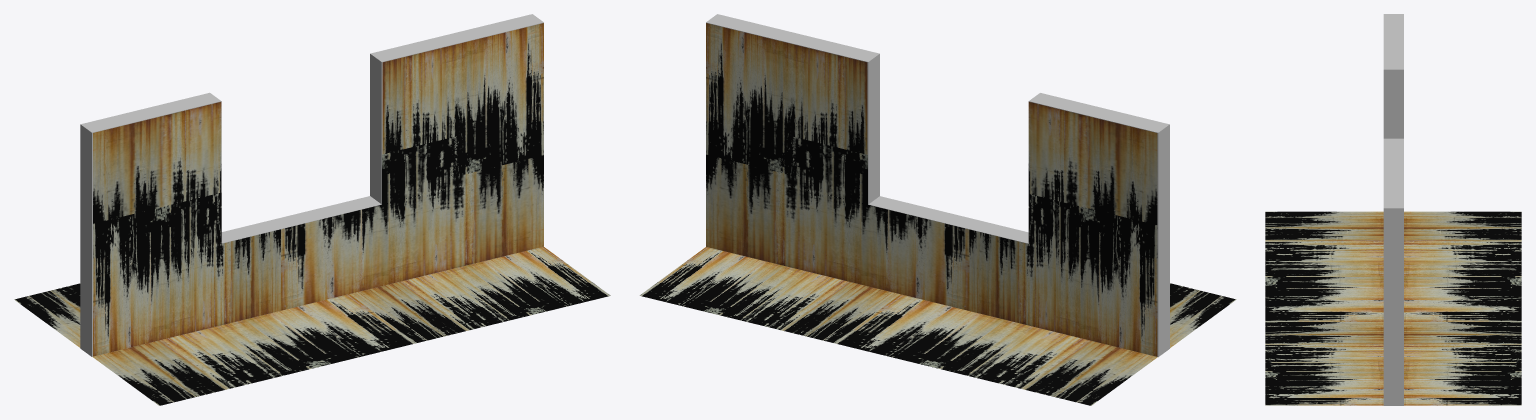
The model's file is TiledBrick3.FBX.
3 renders of one model, left to right at view 1: azimuth 30°, elevation 25°; view 2: azimuth 150°, elevation 25°; view 3: azimuth 270°, elevation 25°, orthographic. The views are drawn at different scales.
Parts seen in each view (by area): view 1: TiledBrick3; view 2: TiledBrick3; view 3: TiledBrick3.
Part boxes in pixels (<box>): TiledBrick3: <box>14,14,610,405</box>; TiledBrick3: <box>639,14,1236,405</box>; TiledBrick3: <box>1265,14,1521,405</box>.
Size of the model in its own units: 471 by 223 by 262.
